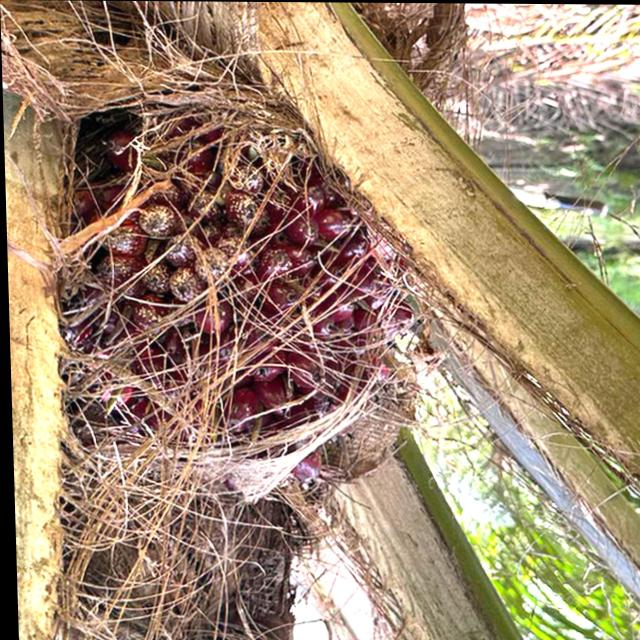ripe: (26, 142, 415, 527)
